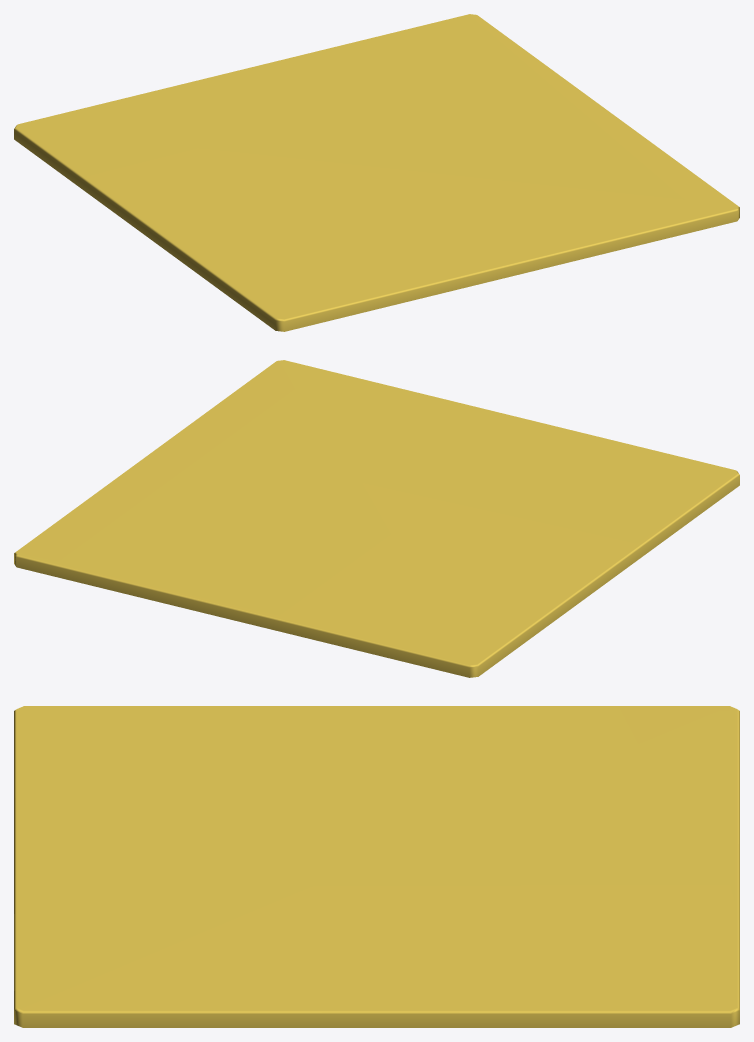
The model's file is stove_1_low.fbx.
The picture shows the model from 3 angles, top to bottom: view 1: azimuth 30°, elevation 25°; view 2: azimuth 150°, elevation 25°; view 3: azimuth 270°, elevation 25°; orthographic projection. The views are drawn at different scales.
Parts seen in each view (by area): view 1: stovel_1_low; view 2: stovel_1_low; view 3: stovel_1_low.
Part boxes in pixels (x1,y1,x2,y2): stovel_1_low: (14,14,739,331); stovel_1_low: (14,360,739,677); stovel_1_low: (14,706,739,1027).
Size of the model in its own units: 600 by 14.69 by 600.
